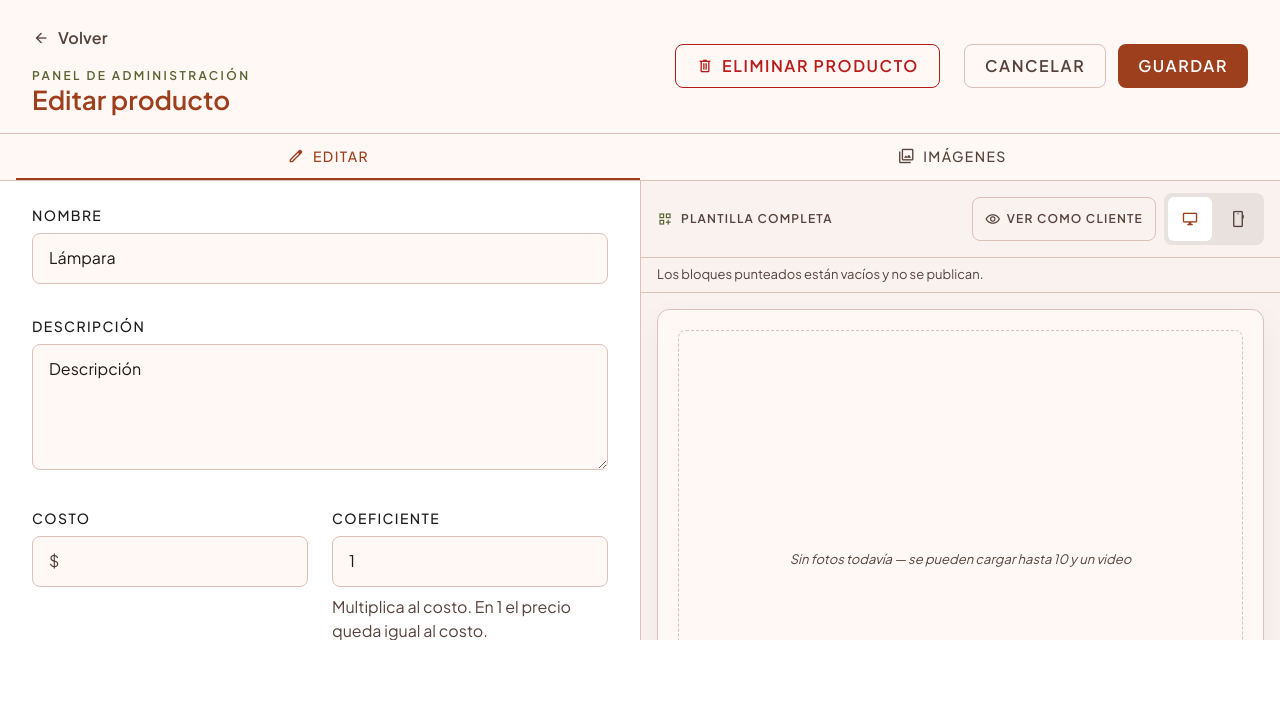
Scenario: AdminProductoForm — borrar el producto › cierra con Escape sin borrar nada, y devuelve el foco al botón que lo abrió
Click the button "Eliminar producto" at (807, 66), box [675,44,940,88]
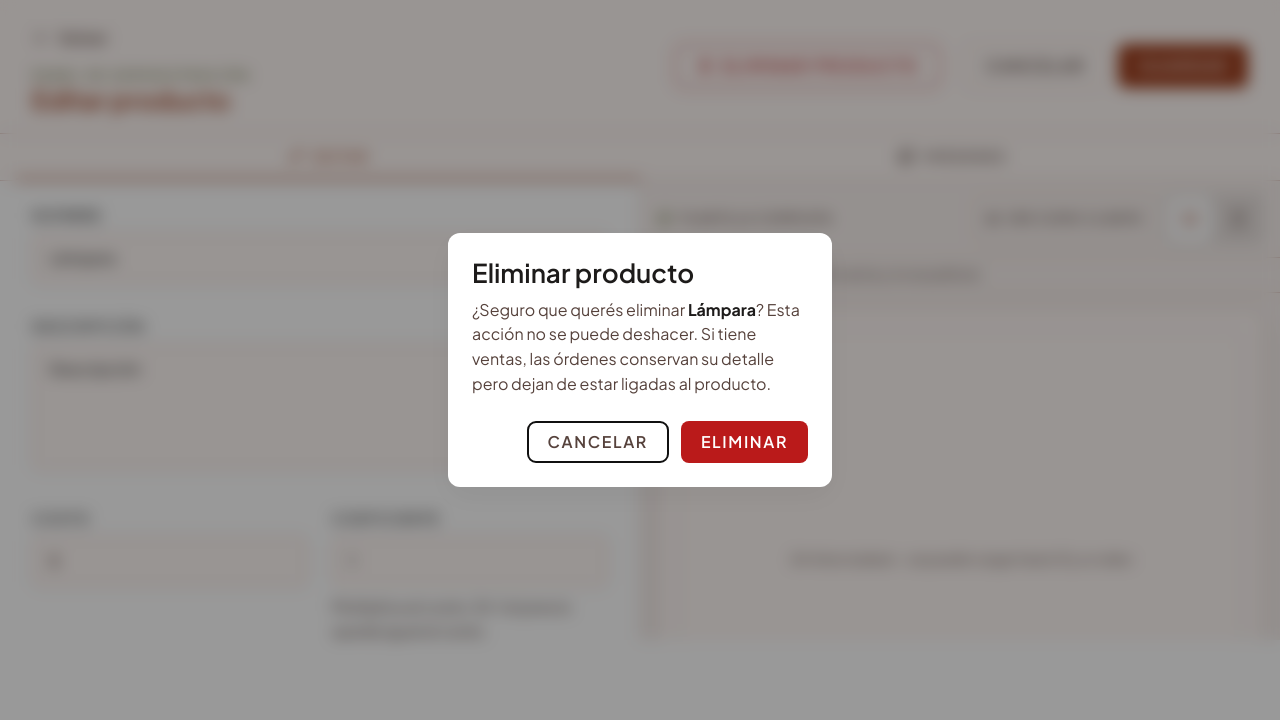
Press Escape
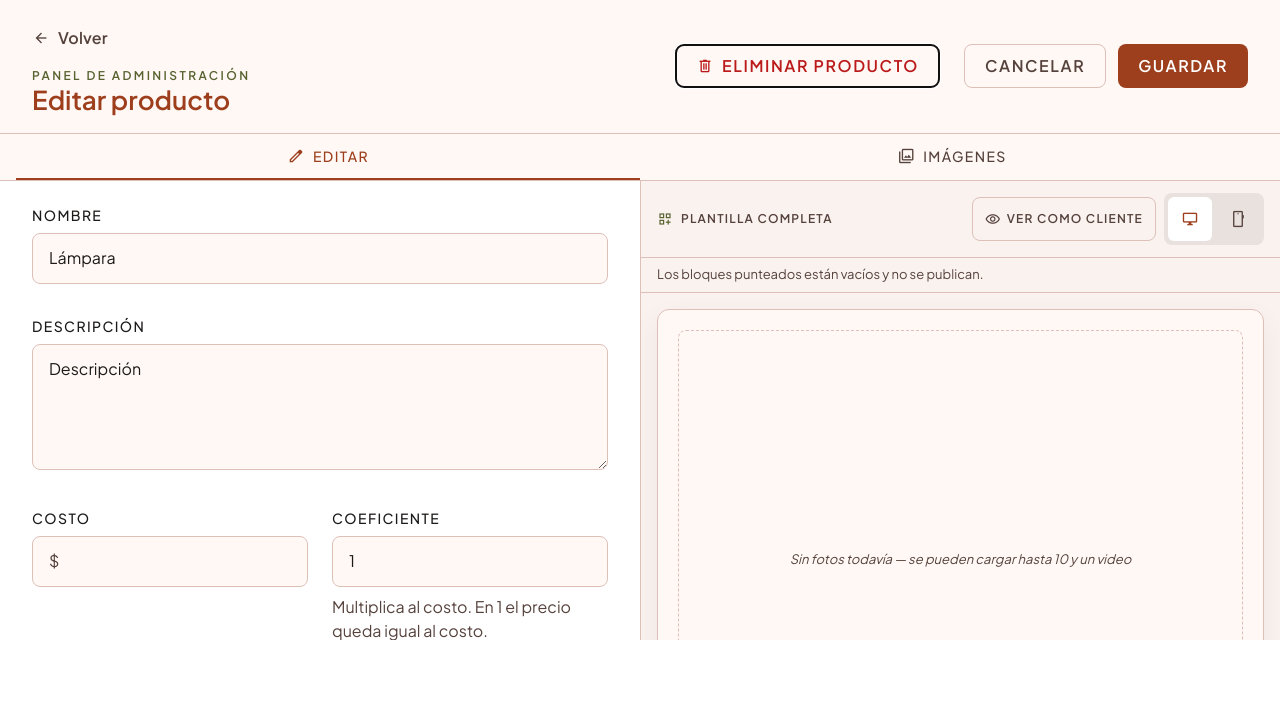
Now the dialog is gone
